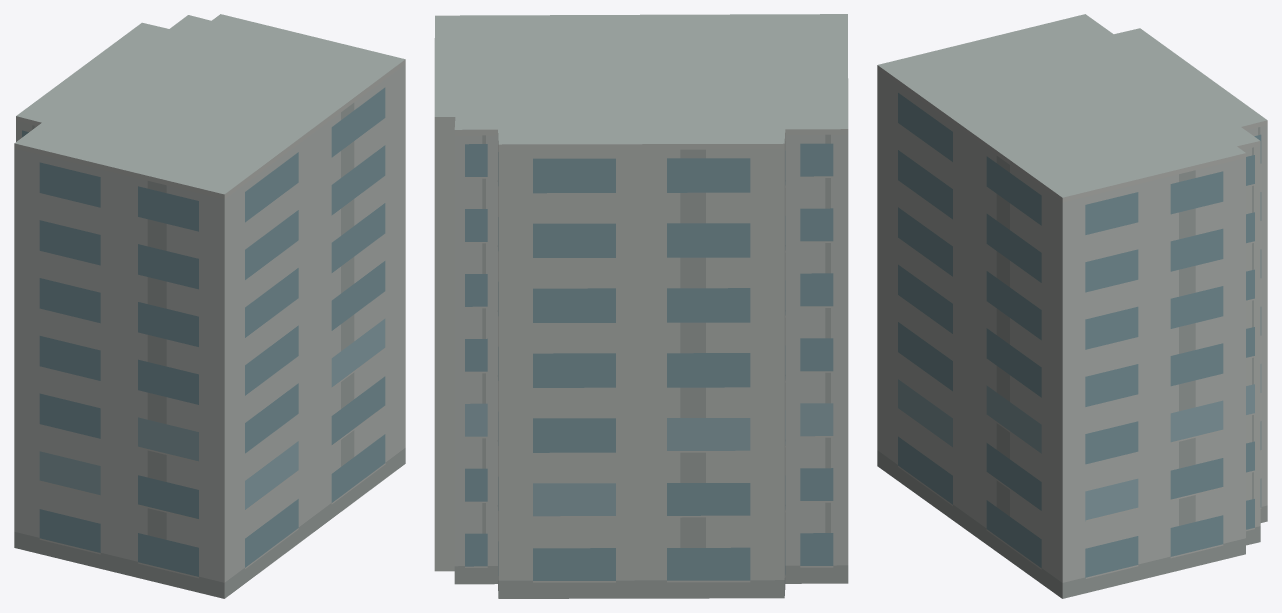
Rendered from survey-upis-33023416.glb.
3 views of the same model, side by side, from view 1: azimuth 30°, elevation 25°; view 2: azimuth 150°, elevation 25°; view 3: azimuth 270°, elevation 25° (orthographic). The views are drawn at different scales.
Parts seen in each view (by area): view 1: survey-upis-33023416.tmp; view 2: survey-upis-33023416.tmp; view 3: survey-upis-33023416.tmp.
Boxes of the visible parts, left/top/right/bottom form: survey-upis-33023416.tmp: left=14, top=14, right=405, bottom=598; survey-upis-33023416.tmp: left=434, top=14, right=848, bottom=598; survey-upis-33023416.tmp: left=877, top=14, right=1267, bottom=598.
Size of the model in its own units: 19.75 by 20.1 by 17.73.
